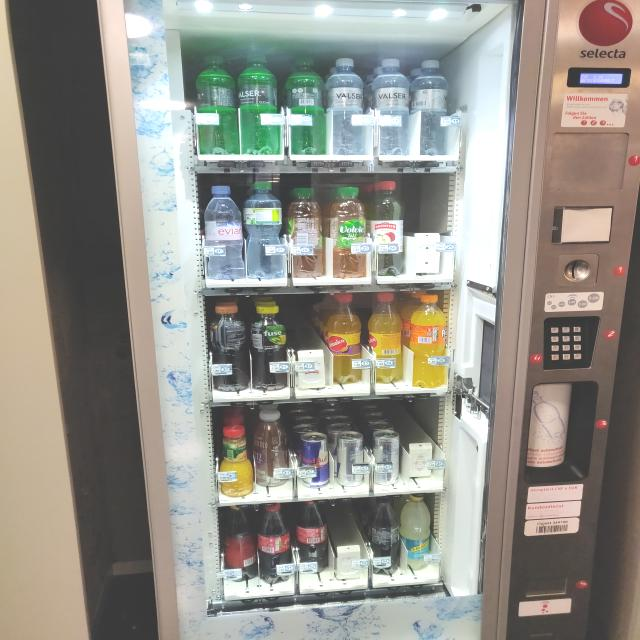coke__flasche_50__54491472: (258, 502, 294, 582), (298, 500, 328, 570)
coke_zero_flasche_50__5449000131836: (367, 500, 401, 569)
evian___50__3068320353500: (205, 181, 242, 278)
fanta___50__40822938: (408, 294, 452, 389)
fuse_lemon__50__5449000235947: (248, 301, 289, 392)
fuse_peach__50__5449000236623: (208, 301, 248, 391)
granini_orange__50__: (216, 426, 256, 497)
mezzomix___50__54490840: (219, 504, 258, 582)
ramseier_jusdepomme__50__7610057001078: (368, 181, 409, 278)
redbull___33__90162909: (370, 430, 402, 486), (332, 435, 365, 489), (298, 435, 333, 485)
schweppes_bitterlemon__50__: (394, 493, 434, 572)
sinalco___50__: (363, 292, 403, 382), (324, 292, 363, 383)
valser_classic__50__76404160: (193, 49, 236, 154), (283, 54, 327, 156), (237, 53, 281, 154)
valser_still__50__7610335002575: (328, 56, 368, 160), (370, 58, 412, 154), (414, 56, 450, 156)
vivitz_classiczitrone__50__: (252, 410, 294, 489)
volvic_teeminze__50__3057640335648: (320, 185, 367, 278), (282, 185, 322, 278)
wasser_-____: (241, 181, 283, 278)
